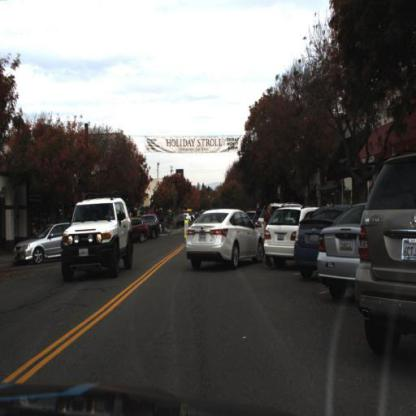car: (355, 152, 416, 359), (60, 192, 138, 285), (182, 205, 267, 267), (291, 201, 351, 284), (317, 198, 363, 301), (297, 202, 345, 279), (263, 204, 322, 263), (14, 220, 86, 266), (262, 203, 310, 272), (130, 216, 150, 239), (145, 215, 160, 238)
pedestrian: (262, 200, 276, 264)
